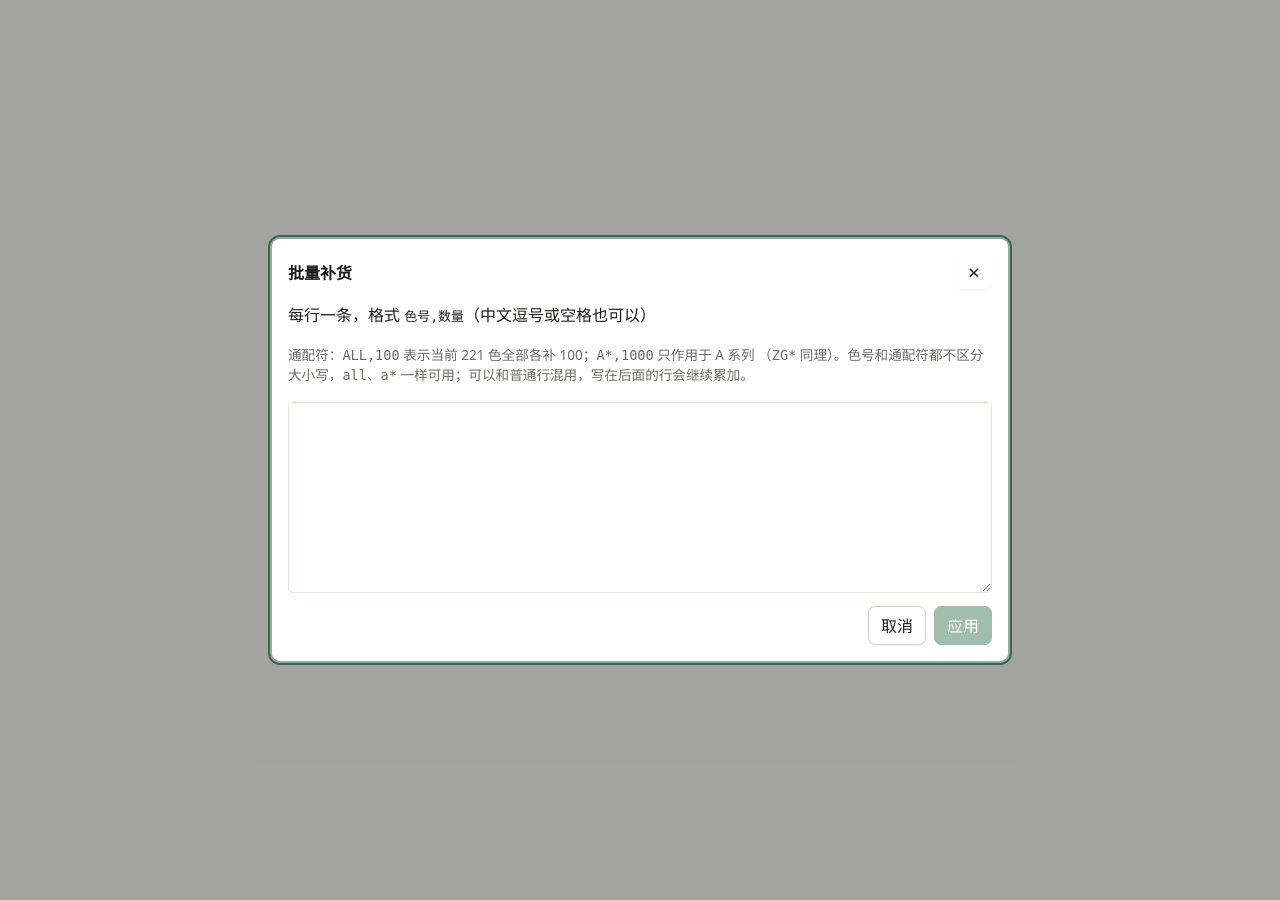
Test case: BatchDialog · ALL wildcard › previews ALL as one row expanded over the scope, not an unknown code
Type "ALL,100" into the text box named "批量输入". click: coordinates (640, 498)
box: top-left (288, 402), bottom-right (992, 593)
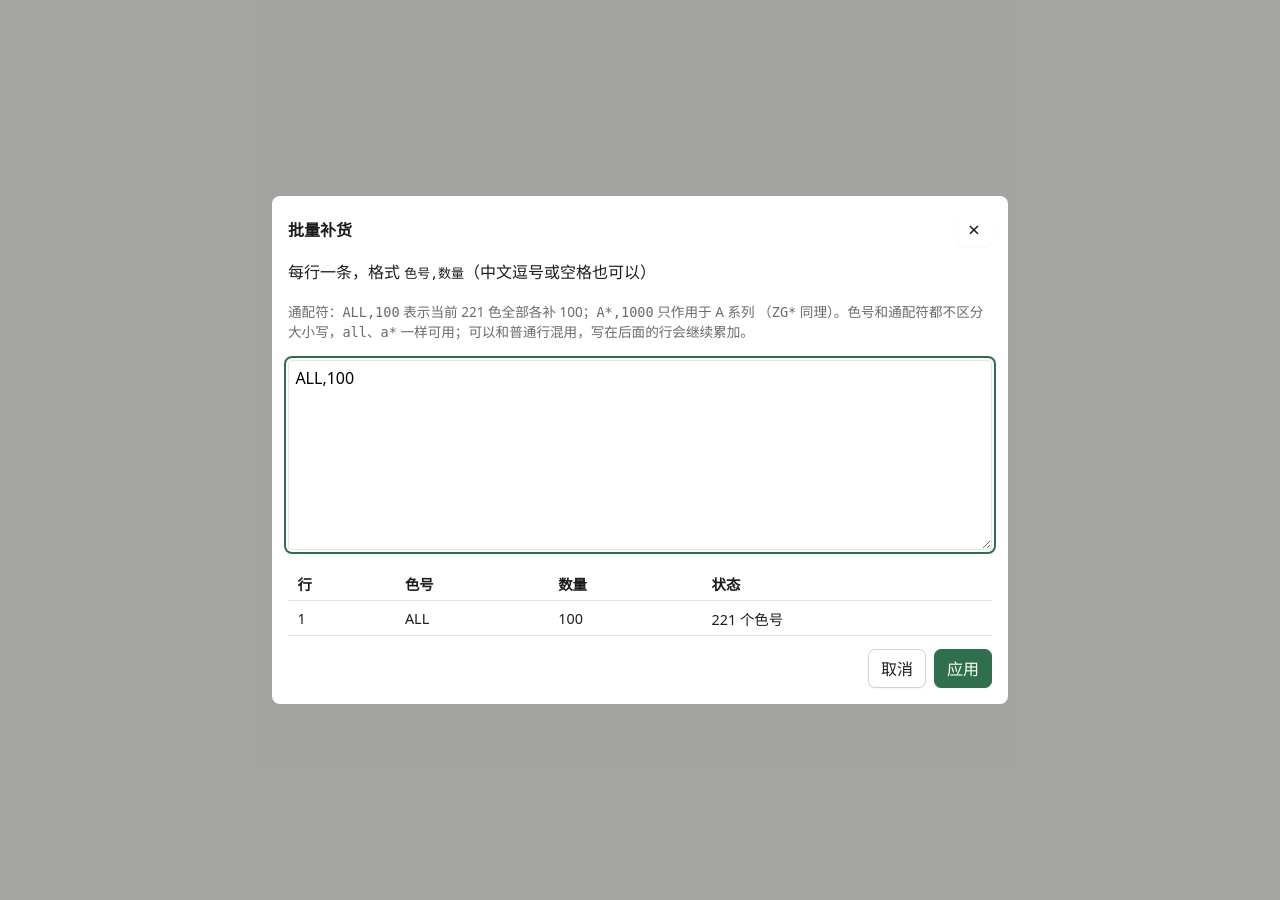
Check: the row "1 ALL 100 221 个色号" is shown, box top-left (288, 601), bottom-right (992, 636)
Check: the button "应用" is enabled, box top-left (934, 649), bottom-right (992, 688)
